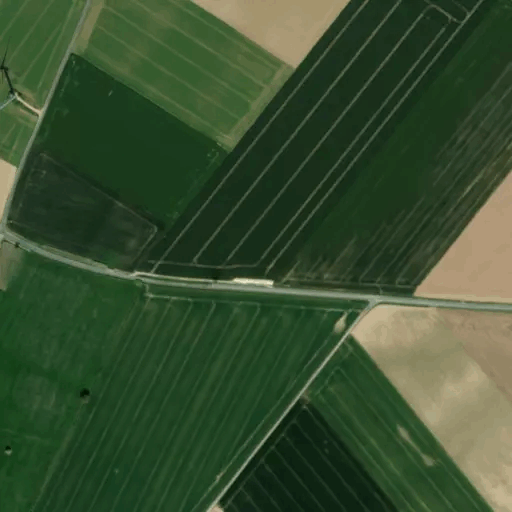wt: (1, 30, 58, 137)
